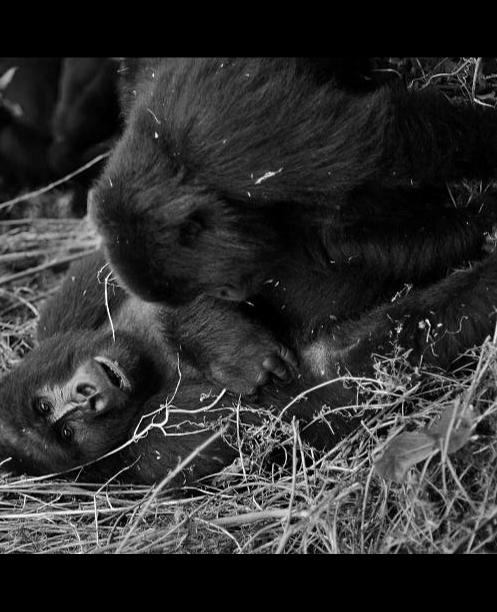goriile_montagne: (0, 57, 497, 496)
